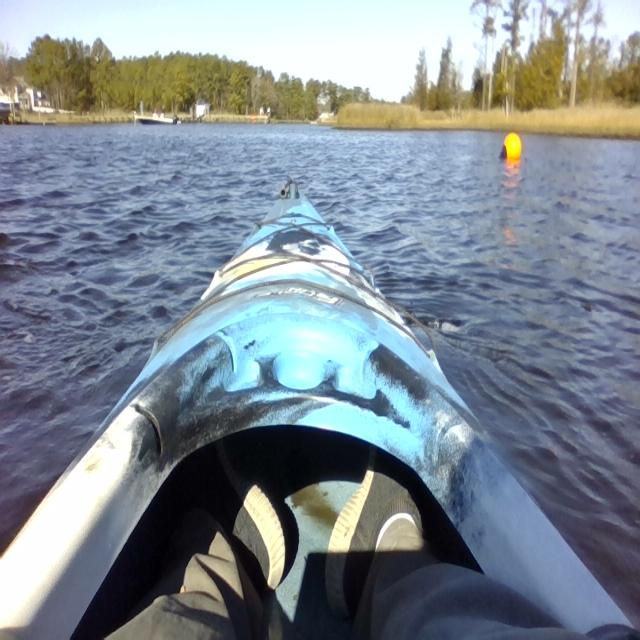Buoy: (496, 130, 526, 168)
